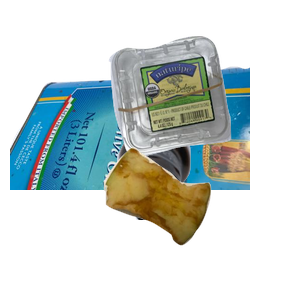glass: (115, 120, 300, 300)
metal: (10, 64, 250, 244)
plastic: (106, 34, 300, 183)
trash: (101, 145, 300, 300)
